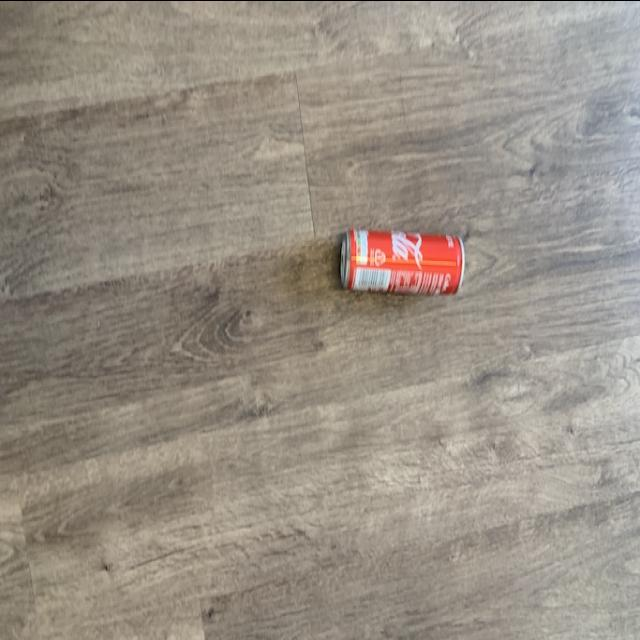litter: (324, 204, 482, 320)
